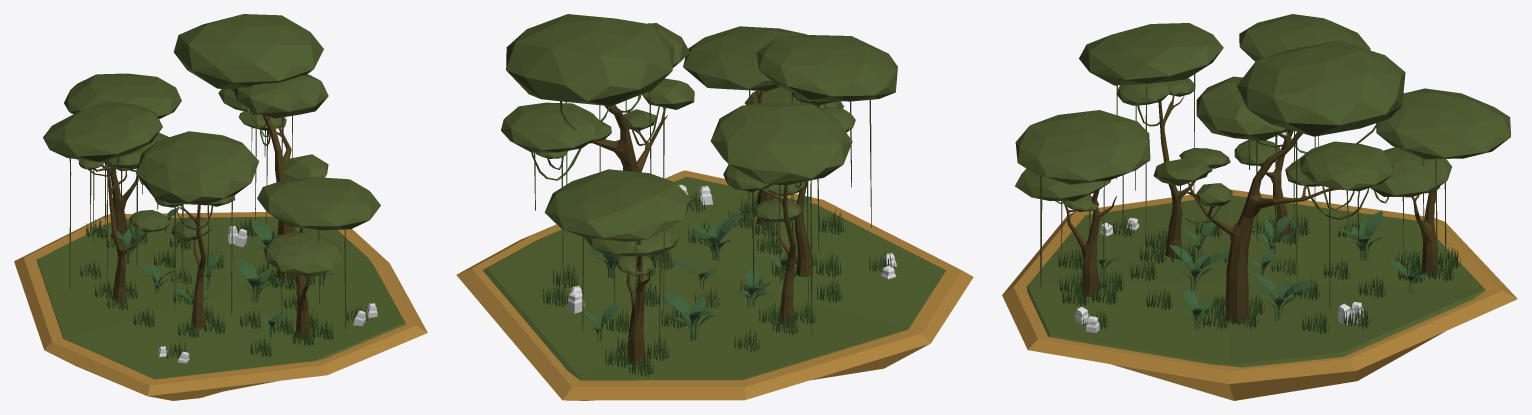
File: forest.glb
3 views of the same model, side by side, from view 1: azimuth 30°, elevation 25°; view 2: azimuth 150°, elevation 25°; view 3: azimuth 270°, elevation 25° (orthographic). The views are drawn at different scales.
Visible parts, largest first — view 1: Cube.001, Trees_A_1, Cube, Trees_A_2, Trees_A_3.001, Trees_A_4, Trees_A_3, Plants_B_1, Plants_B_1.001, Plants_B_1.002; view 2: Cube.001, Trees_A_1, Cube, Trees_A_4, Trees_A_3, Trees_A_2, Trees_A_3.001, Plants_B_1.001, Plants_B_1, Plants_B_2.001; view 3: Cube.001, Trees_A_1, Cube, Trees_A_3.001, Trees_A_3, Trees_A_2, Trees_A_4, Plants_B_1.002, Plants_B_1, Plants_B_1.001, Plants_B_2.002, Plants_B_2.001.
Boxes of the visible parts, x1,y1,x2,y2 form: Cube.001: (36, 216, 405, 379); Trees_A_1: (174, 14, 328, 280); Cube: (14, 212, 427, 400); Trees_A_2: (135, 131, 259, 329); Trees_A_3.001: (257, 177, 380, 339); Trees_A_4: (43, 101, 169, 301); Trees_A_3: (64, 73, 181, 240); Plants_B_1: (234, 259, 272, 302); Plants_B_1.001: (102, 227, 151, 263); Plants_B_1.002: (249, 220, 277, 263); Cube.001: (482, 176, 946, 380); Trees_A_1: (501, 14, 694, 269); Cube: (456, 170, 973, 400); Trees_A_4: (710, 101, 852, 335); Trees_A_3: (544, 169, 691, 364); Trees_A_2: (756, 35, 897, 276); Trees_A_3.001: (683, 26, 843, 225); Plants_B_1.001: (662, 293, 716, 341); Plants_B_1: (687, 214, 742, 260); Plants_B_2.001: (734, 266, 770, 308); Cube.001: (1026, 195, 1485, 367); Trees_A_1: (1153, 40, 1405, 323); Cube: (1002, 189, 1517, 400); Trees_A_3.001: (1015, 110, 1150, 296); Trees_A_3: (1370, 88, 1510, 277); Trees_A_2: (1079, 23, 1230, 257); Trees_A_4: (1234, 14, 1370, 237); Plants_B_1.002: (1253, 273, 1315, 320); Plants_B_1: (1169, 244, 1228, 291); Plants_B_1.001: (1336, 210, 1383, 261); Plants_B_2.002: (1178, 289, 1211, 329); Plants_B_2.001: (1251, 216, 1294, 254).
Size of the model in its own units: 30.99 by 25.58 by 34.6.
